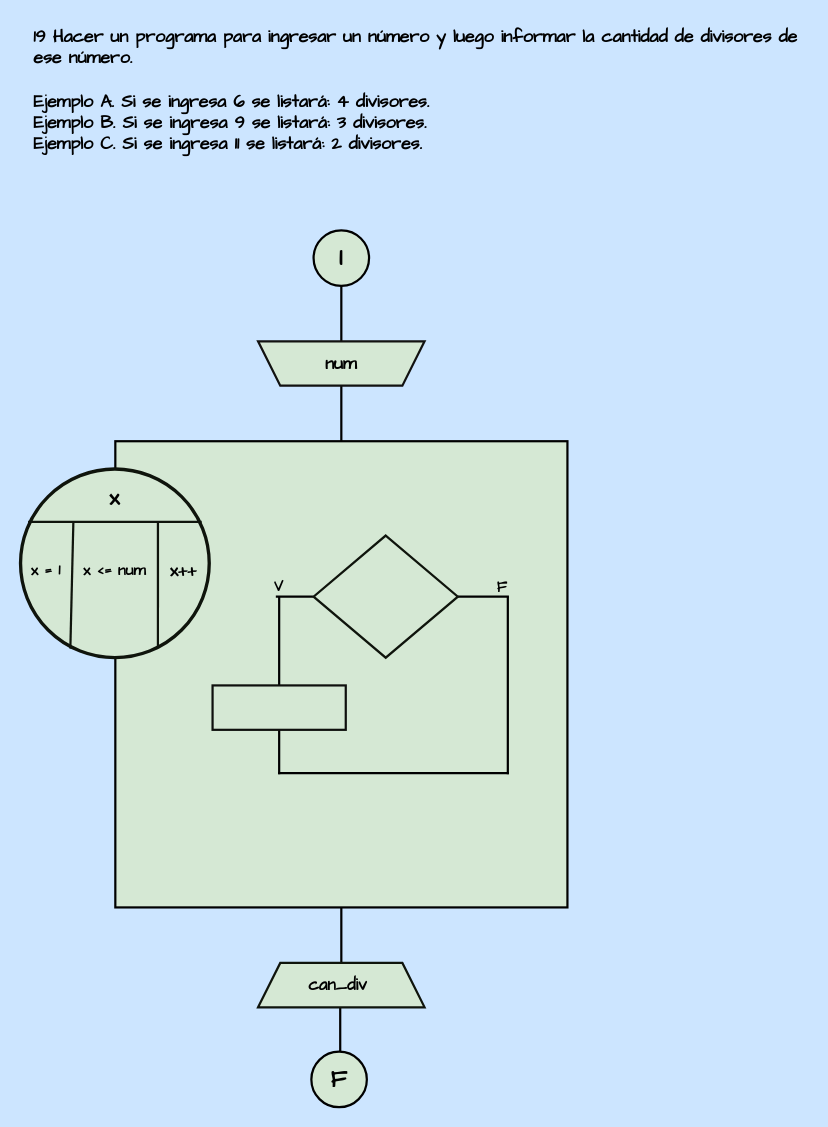
This 828x1127 diagram has some shape labels left out. The shapes that lost their labels are listed below. From the top down, each one's box as (x1, y1, x2, y2) in pixels, then its label:
(312, 534, 458, 658): num % x == 0
(211, 684, 346, 730): can_div++
